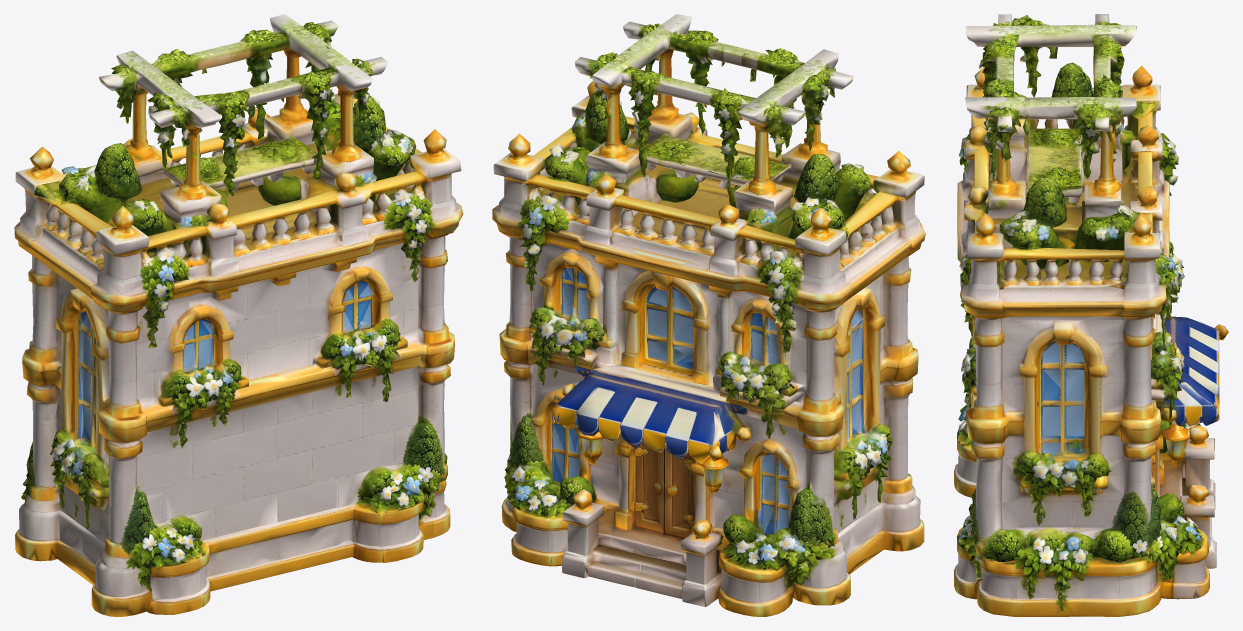
Rendered from HaloDomeHouse_12_parts.glb.
The picture shows the model from 3 angles, left to right: view 1: azimuth 30°, elevation 25°; view 2: azimuth 150°, elevation 25°; view 3: azimuth 270°, elevation 25°; orthographic projection. The views are drawn at different scales.
Parts seen in each view (by area): view 1: HaloDomeHouse_12_Body_t11, HaloDomeHouse_12_Body_t00, HaloDomeHouse_12_Body_t10, HaloDomeHouse_12_Body_t01, HaloDomeHouse_12_Glass, HaloDomeHouse_12_WinPane; view 2: HaloDomeHouse_12_Body_t11, HaloDomeHouse_12_Body_t10, HaloDomeHouse_12_Body_t00, HaloDomeHouse_12_Body_t01, HaloDomeHouse_12_Awning, HaloDomeHouse_12_Glass, HaloDomeHouse_12_WinPane, HaloDomeHouse_12_Door, HaloDomeHouse_12_DoorHw; view 3: HaloDomeHouse_12_Body_t00, HaloDomeHouse_12_Body_t01, HaloDomeHouse_12_Body_t11, HaloDomeHouse_12_Body_t10, HaloDomeHouse_12_Awning, HaloDomeHouse_12_Glass, HaloDomeHouse_12_WinPane.
Boxes of the visible parts, x1=… form: HaloDomeHouse_12_Body_t11: x1=14, y1=14, x2=459, y2=616; HaloDomeHouse_12_Body_t00: x1=22, y1=18, x2=458, y2=581; HaloDomeHouse_12_Body_t10: x1=18, y1=20, x2=463, y2=591; HaloDomeHouse_12_Body_t01: x1=15, y1=14, x2=447, y2=577; HaloDomeHouse_12_Glass: x1=78, y1=285, x2=373, y2=444; HaloDomeHouse_12_WinPane: x1=78, y1=284, x2=374, y2=438; HaloDomeHouse_12_Body_t11: x1=506, y1=14, x2=924, y2=616; HaloDomeHouse_12_Body_t10: x1=492, y1=25, x2=925, y2=606; HaloDomeHouse_12_Body_t00: x1=493, y1=14, x2=924, y2=599; HaloDomeHouse_12_Body_t01: x1=496, y1=17, x2=920, y2=609; HaloDomeHouse_12_Awning: x1=533, y1=343, x2=762, y2=464; HaloDomeHouse_12_Glass: x1=552, y1=268, x2=863, y2=533; HaloDomeHouse_12_WinPane: x1=552, y1=268, x2=863, y2=533; HaloDomeHouse_12_Door: x1=614, y1=431, x2=728, y2=539; HaloDomeHouse_12_DoorHw: x1=615, y1=440, x2=703, y2=533; HaloDomeHouse_12_Body_t00: x1=960, y1=14, x2=1213, y2=599; HaloDomeHouse_12_Body_t01: x1=957, y1=20, x2=1215, y2=616; HaloDomeHouse_12_Body_t11: x1=954, y1=26, x2=1214, y2=616; HaloDomeHouse_12_Body_t10: x1=957, y1=14, x2=1216, y2=616; HaloDomeHouse_12_Awning: x1=1153, y1=279, x2=1228, y2=439; HaloDomeHouse_12_Glass: x1=1042, y1=342, x2=1084, y2=454; HaloDomeHouse_12_WinPane: x1=1042, y1=342, x2=1084, y2=453.
Size of the model in its own units: 24.34 by 31.13 by 16.34.
9 materials, 8 textured.
